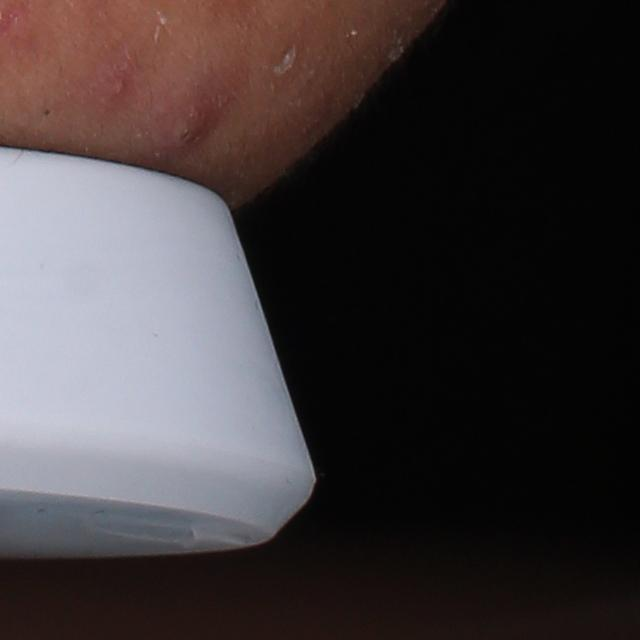papule: (150, 90, 222, 151)
